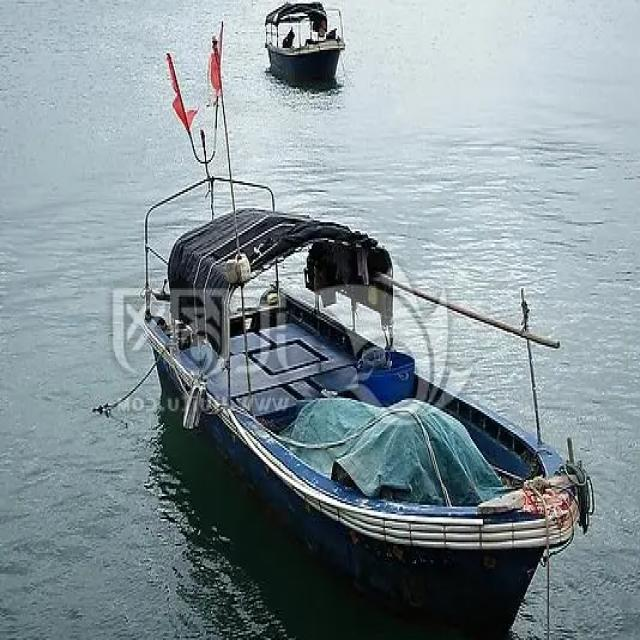fishing boat: (150, 168, 595, 633), (266, 0, 348, 87)
